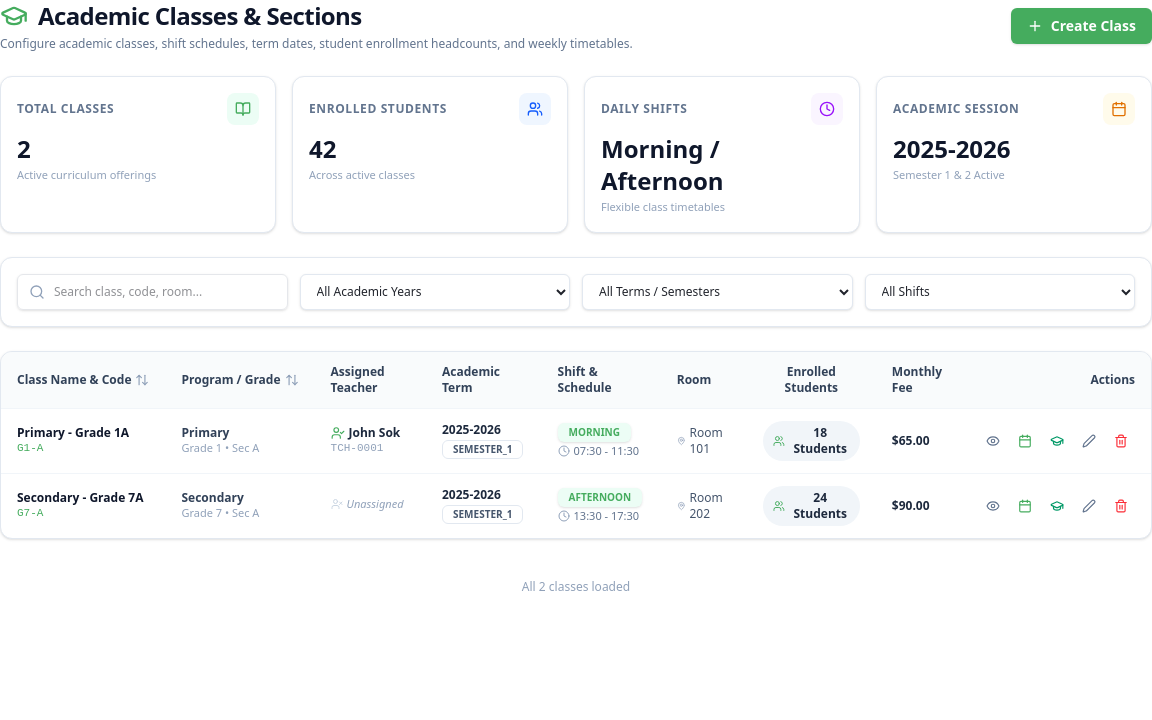
it: ClassListTable › opens Promote Class dialog when clicking the promote row action
The image size is (1152, 720).
Step 1. Click the button titled "promote class" in the row of "Primary - Grade 1A" → (1057, 440), box [1043, 426, 1071, 454]
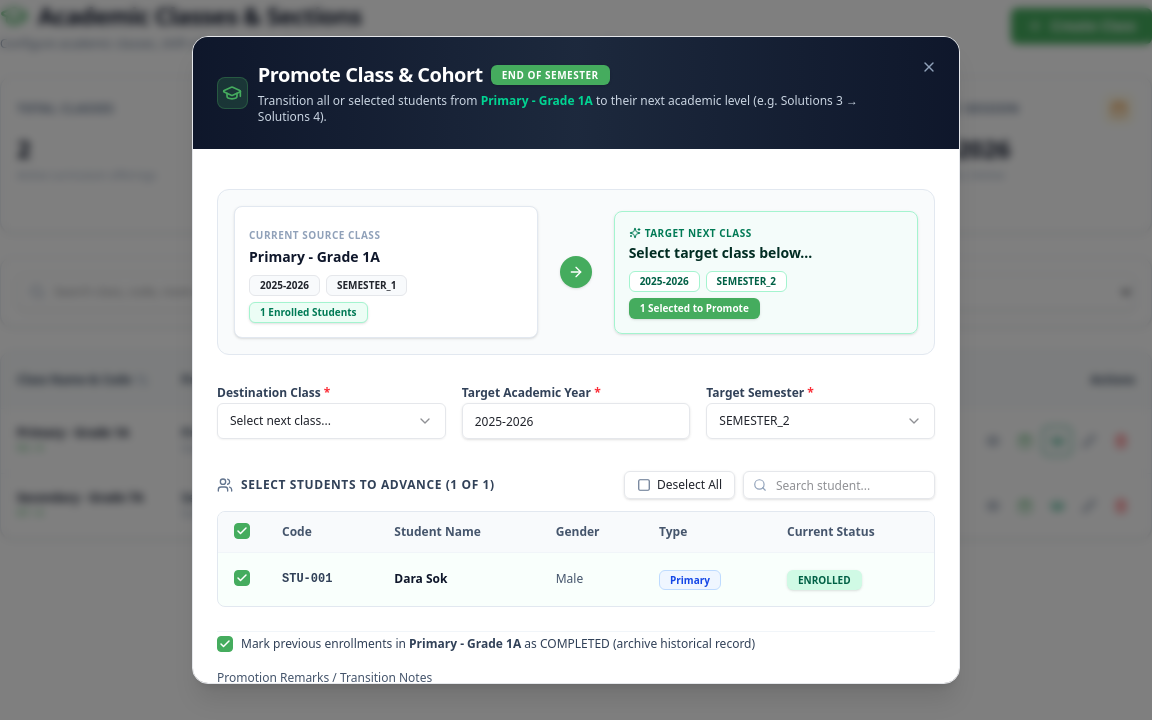
Expected: the heading "Promote Class & Cohort End of Semester" is shown, [258, 61, 610, 88]
Expected: the text "Target Next Class" is shown, [629, 226, 752, 240]
